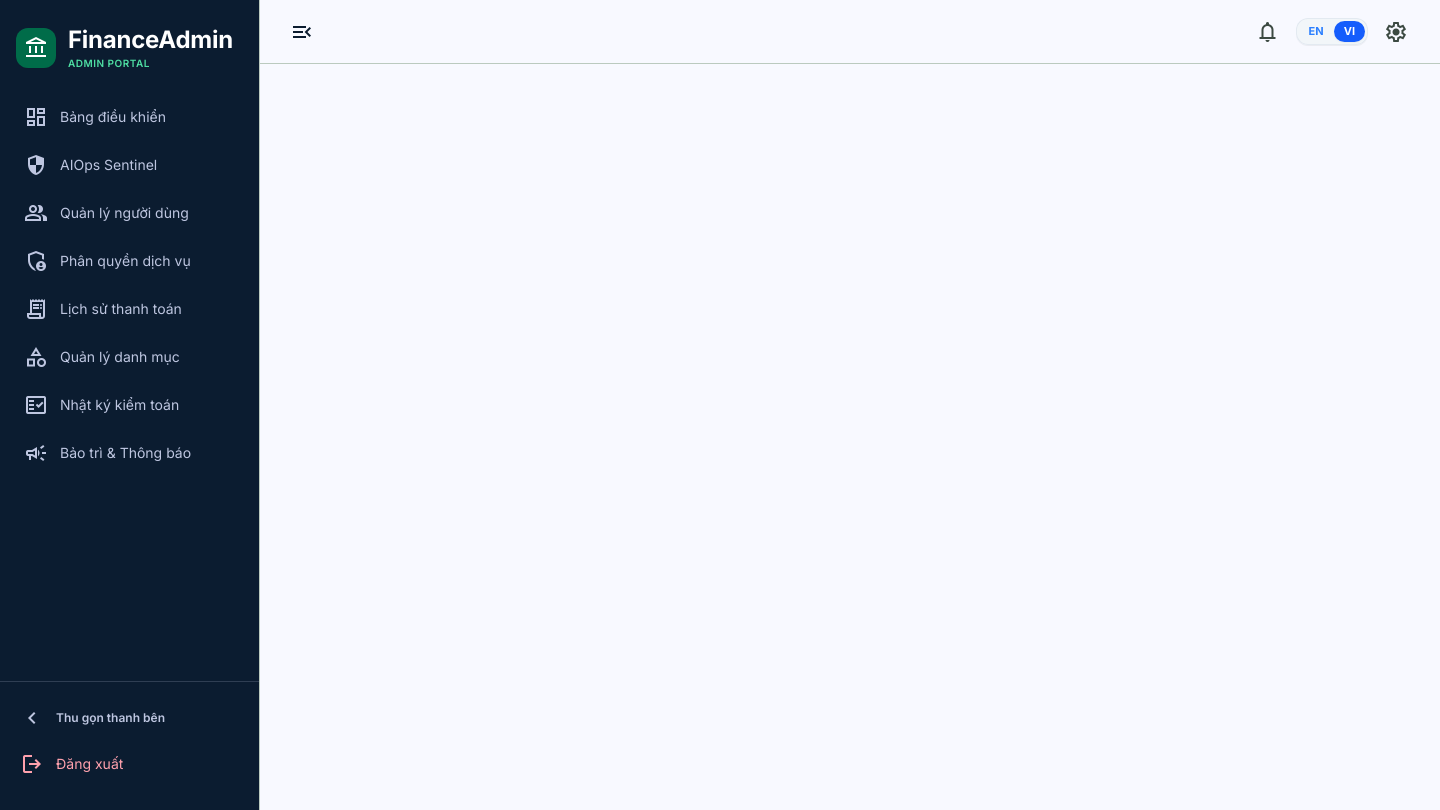
Test case: Admin-web Language Switcher 2-Tier Architecture Suite › ⚡ TẦNG 2: Real System Impact & Behavioral Verification › 2.3. Tác động Chuyển ngữ Toàn hệ thống (Layout Impact): Sidebar & Header tự động dịch sang Tiếng Anh khi nhấn EN
Check: the text "Bảng điều khiển" is shown, box [60,107,166,127]
Check: the text "Quản lý người dùng" is shown, box [60,203,189,223]
// Bấm nút EN trên Header
Click the button with test id "lang-btn-en" at (1316, 32), box [1299,21,1334,42]
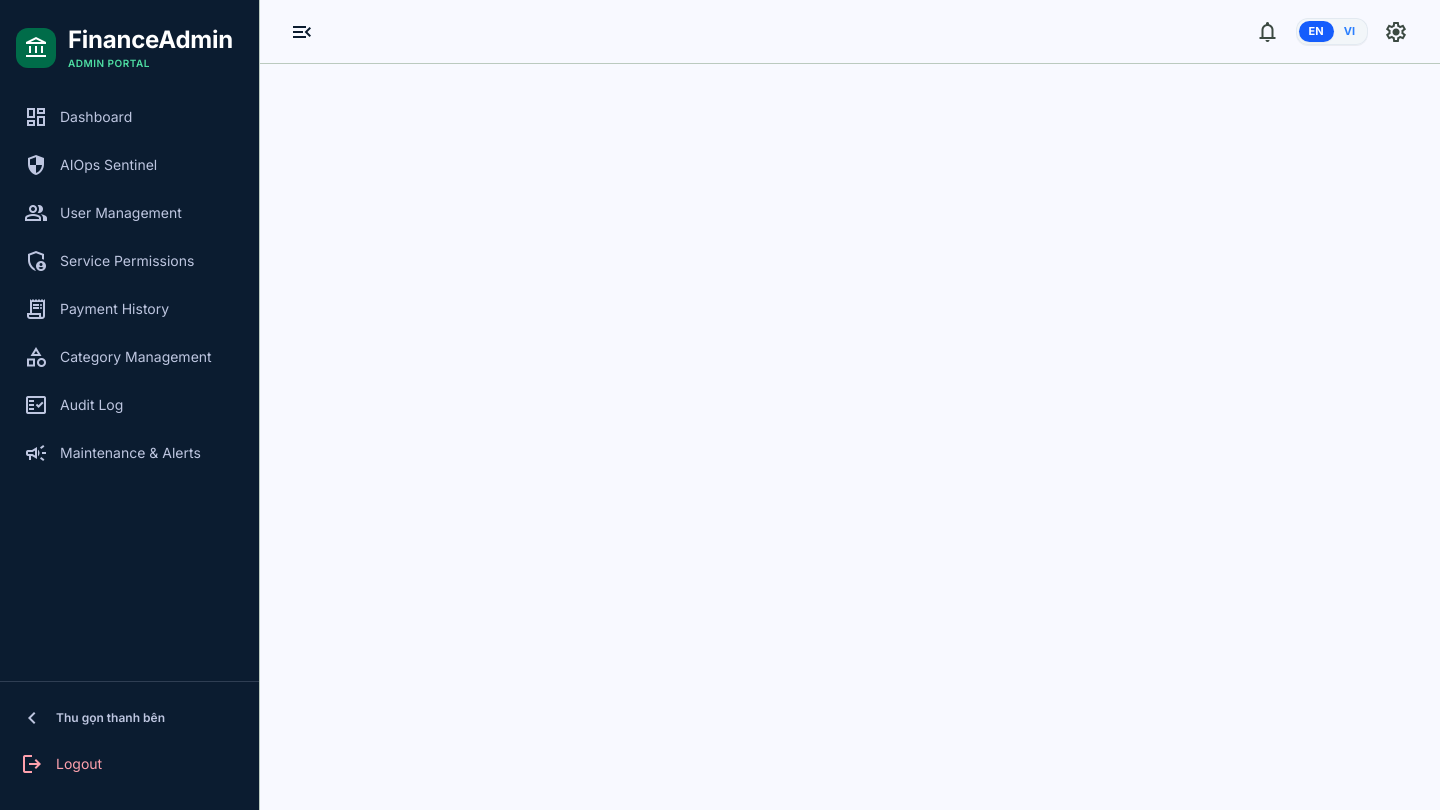
Check: the text "Dashboard" is shown, box [60,107,132,127]
Check: the text "User Management" is shown, box [60,203,182,223]
Check: the text "Service Permissions" is shown, box [60,251,194,271]
